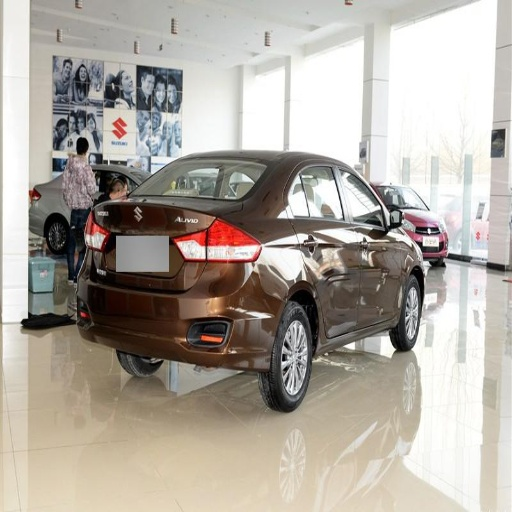back_bumper: (72, 252, 284, 366)
back_right_door: (290, 160, 359, 337)
tailgate: (97, 194, 212, 288)
